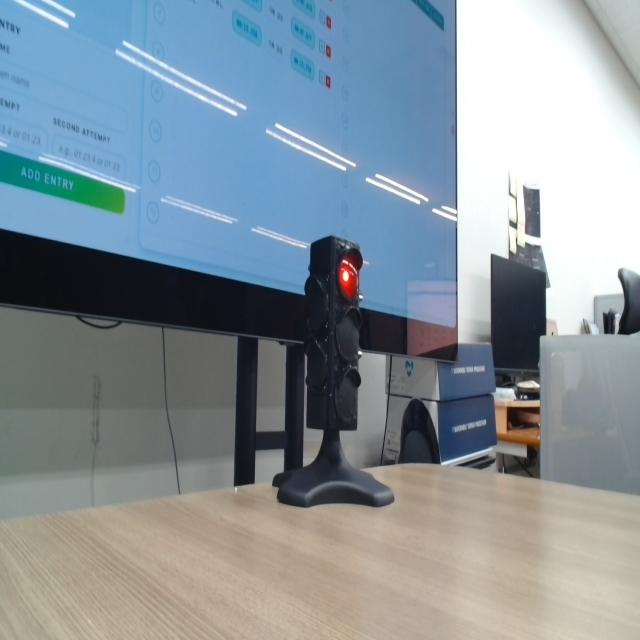red_light: (338, 258, 358, 301)
